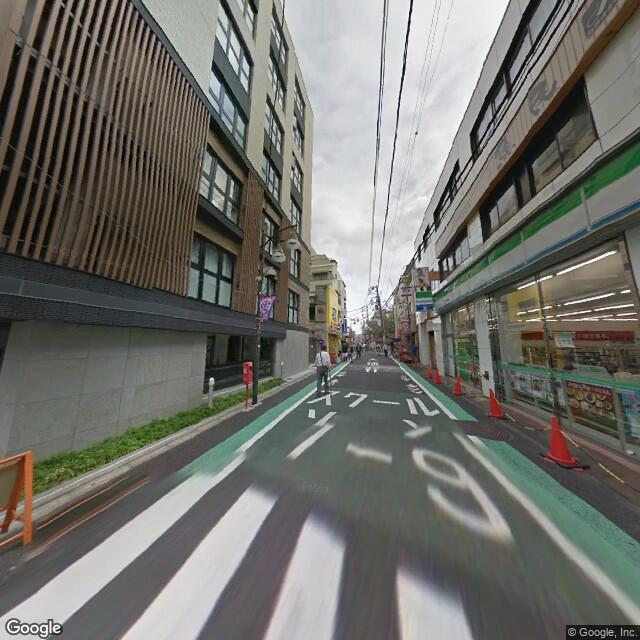family_mart: (435, 134, 637, 312), (412, 288, 433, 312)
